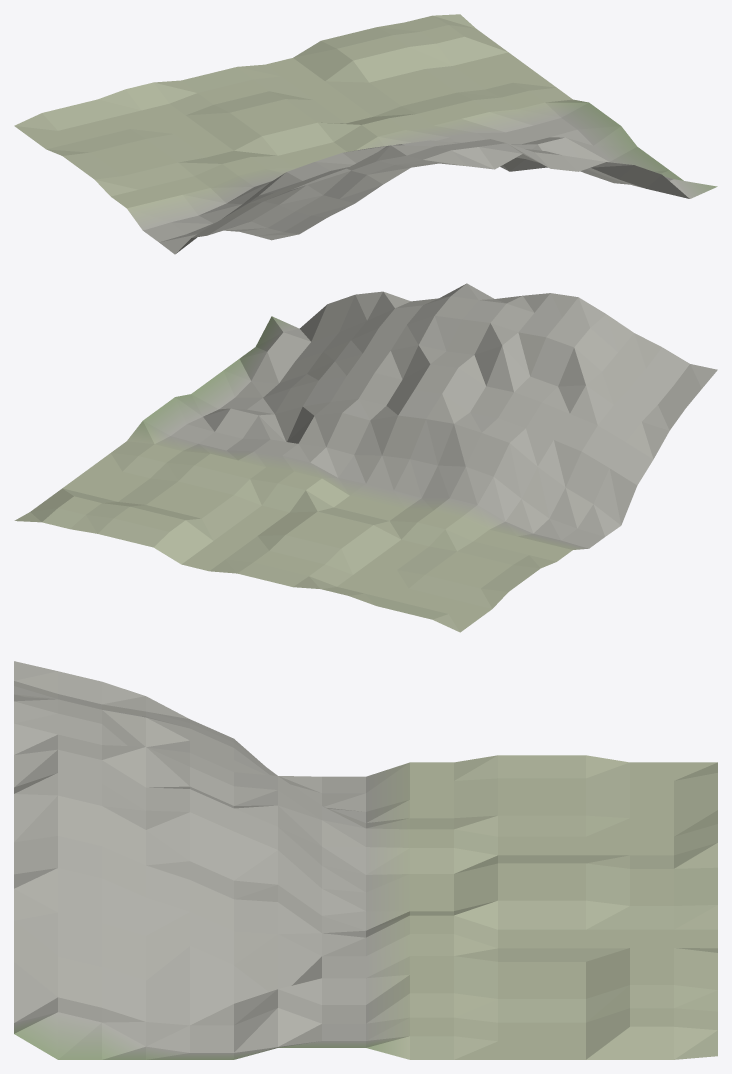
3 views of the same model, one above another, from view 1: azimuth 30°, elevation 25°; view 2: azimuth 150°, elevation 25°; view 3: azimuth 270°, elevation 25° (orthographic). The views are drawn at different scales.
Size of the model in its own units: 32 by 8.48 by 32.
